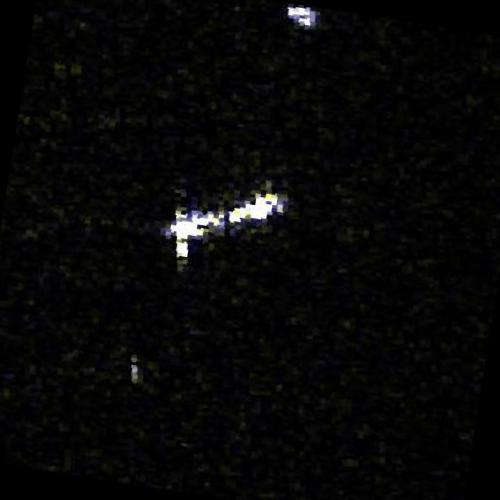ship: (166, 191, 290, 247)
